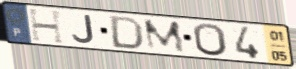4: (234, 25, 262, 61)
D: (109, 15, 145, 51)
H: (26, 7, 67, 46)
J: (70, 14, 97, 45)
M: (141, 18, 188, 54)
O: (191, 22, 229, 58)
